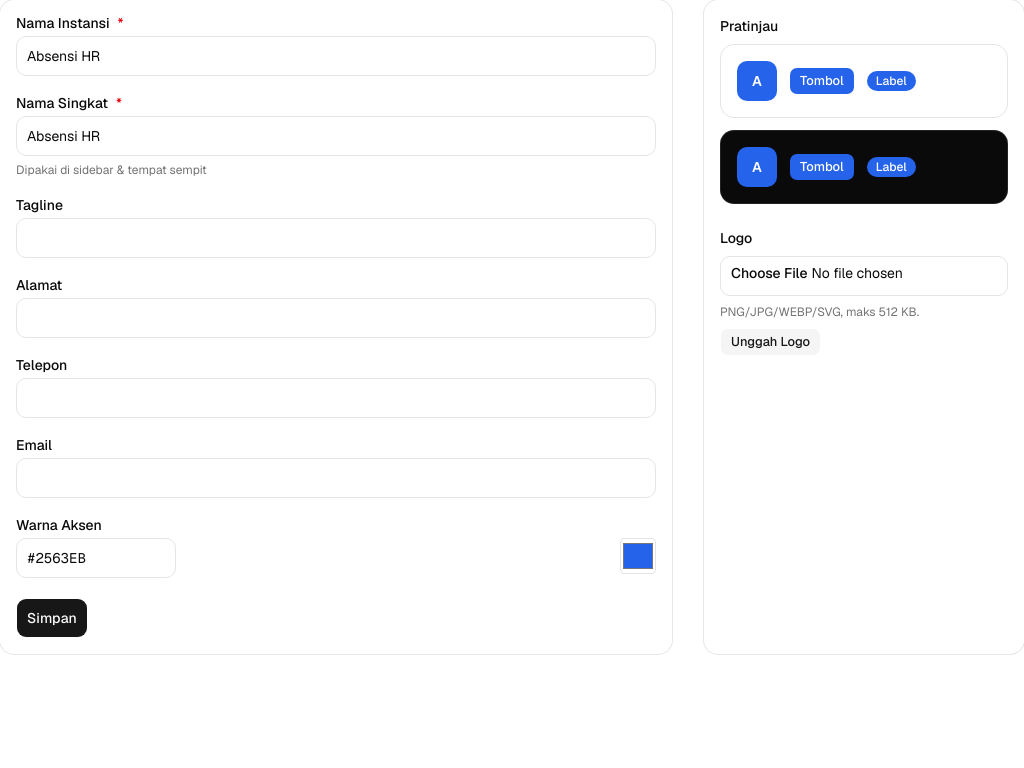
InstansiForm › shows a format error for an invalid accent hex
This screenshot has width=1024, height=768.
Replace the text in the field labelled "Warna Aksen" with "blue" at (96, 558), box left=16, top=538, right=176, bottom=578
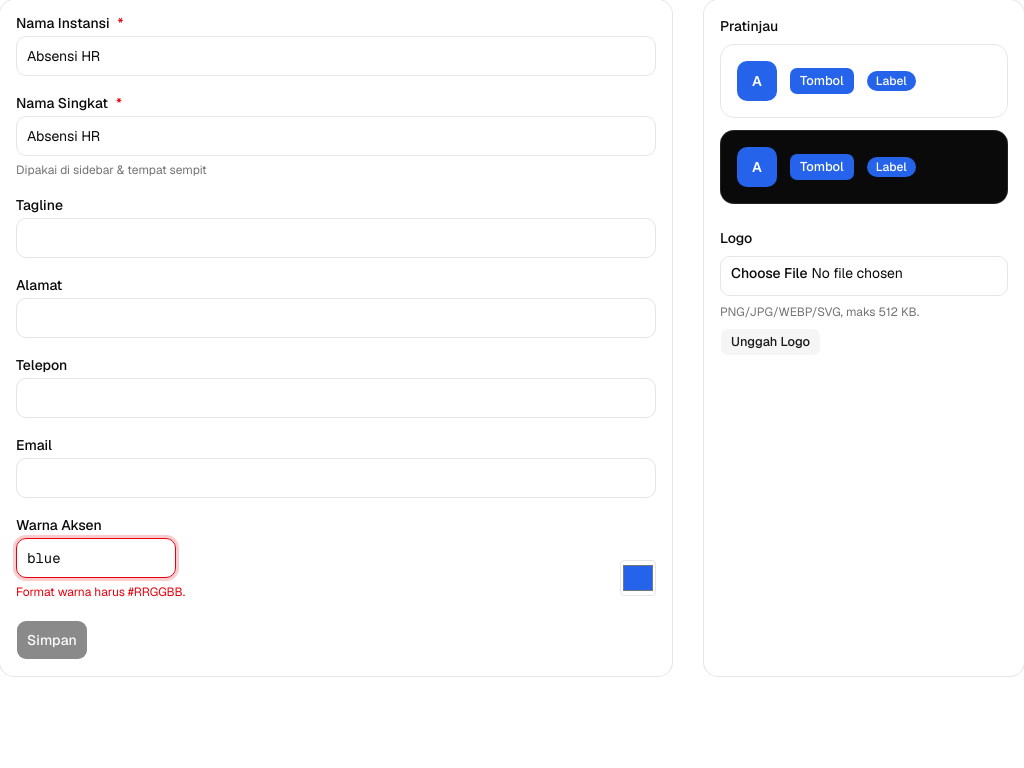
Expected: the text "Format warna harus #RRGGBB." is shown, left=16, top=584, right=185, bottom=600
